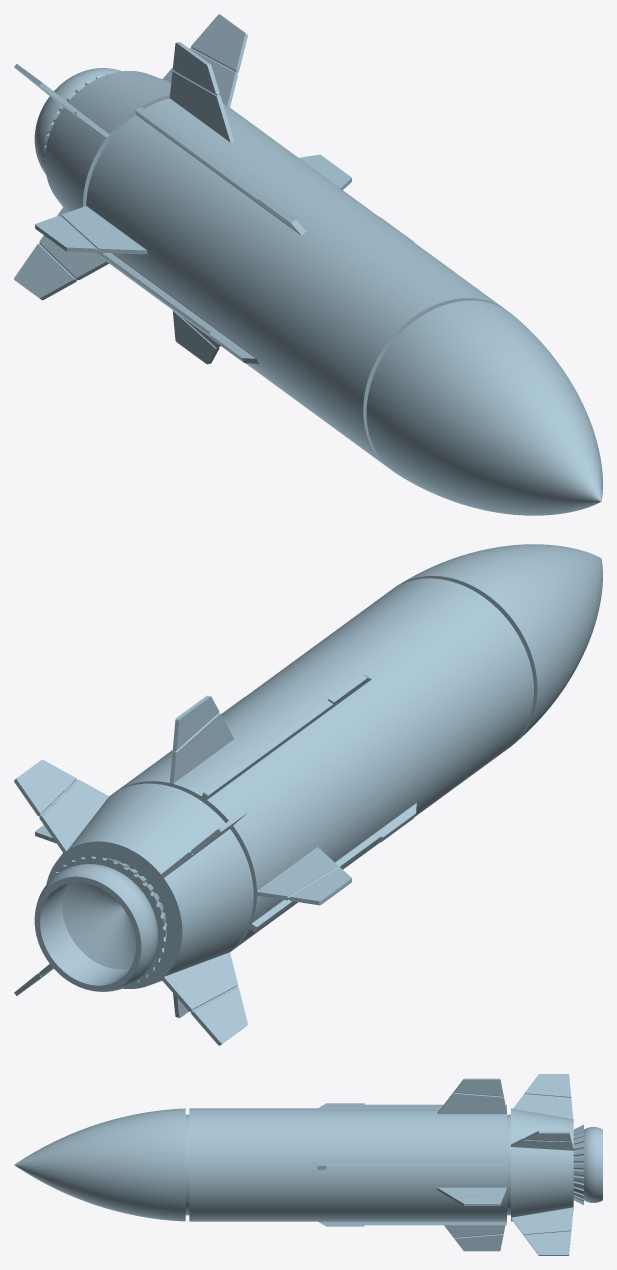
Rendered from hypersonic.glb.
3 renders of one model, top to bottom at view 1: azimuth 30°, elevation 25°; view 2: azimuth 150°, elevation 25°; view 3: azimuth 270°, elevation 25°, orthographic. The views are drawn at different scales.
Parts seen in each view (by area): view 1: Hypersonic surface; view 2: Hypersonic surface; view 3: Hypersonic surface.
Boxes of the visible parts, <box> form: Hypersonic surface: <box>14,14,602,515</box>; Hypersonic surface: <box>14,544,602,1045</box>; Hypersonic surface: <box>14,1074,602,1255</box>.
Size of the model in its own units: 1.49 by 1.49 by 4.63.
